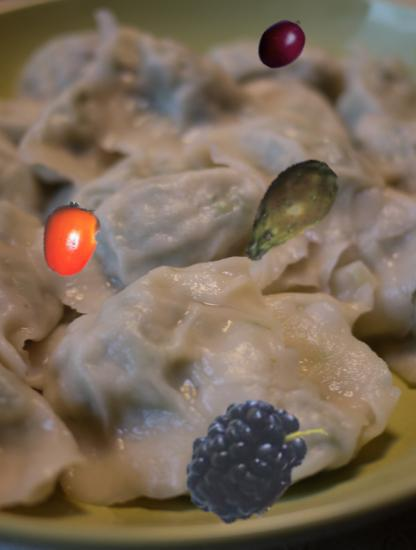Cactus: (224, 149, 347, 272)
Kaki: (33, 202, 109, 278)
Mulberry: (159, 373, 308, 522)
Tamarillo: (254, 15, 311, 72)
